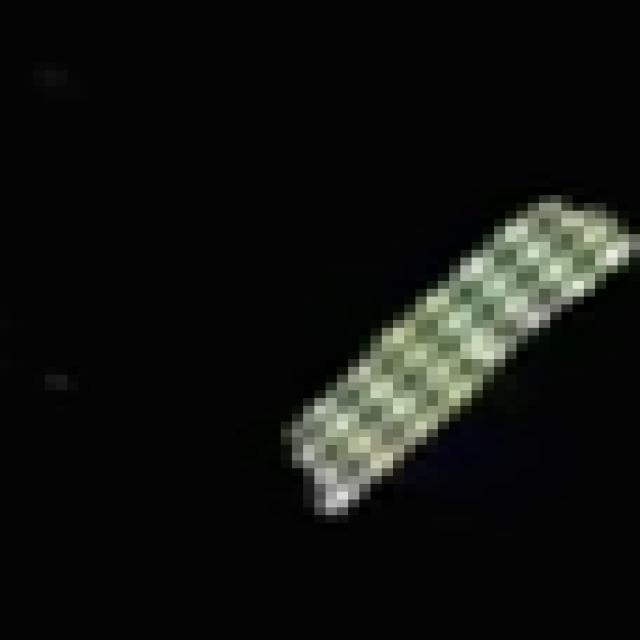large_debris: (195, 102, 640, 573)
